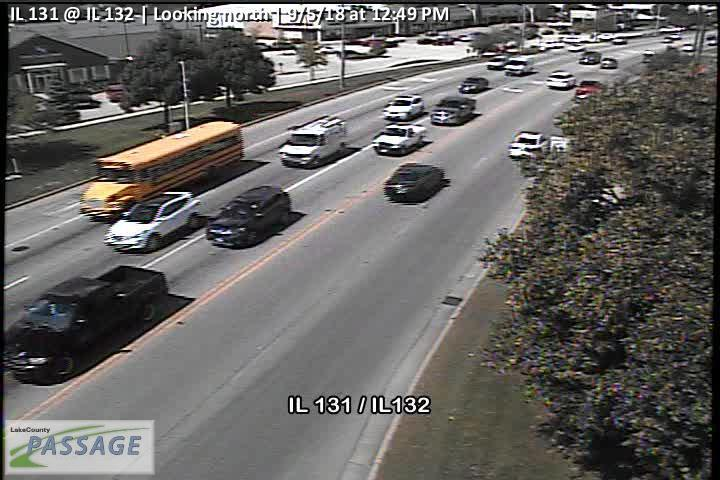Bus: (78, 120, 244, 219)
SUV: (101, 190, 202, 253), (204, 184, 292, 247)
Sedan: (384, 160, 444, 200), (372, 119, 426, 156), (429, 94, 476, 126), (381, 92, 425, 121), (508, 130, 550, 159), (572, 79, 607, 103), (544, 70, 576, 90), (458, 75, 489, 91), (484, 53, 510, 70), (578, 50, 601, 65), (599, 57, 617, 68)
Truck: (1, 265, 169, 385), (276, 115, 347, 165), (503, 55, 535, 75)
